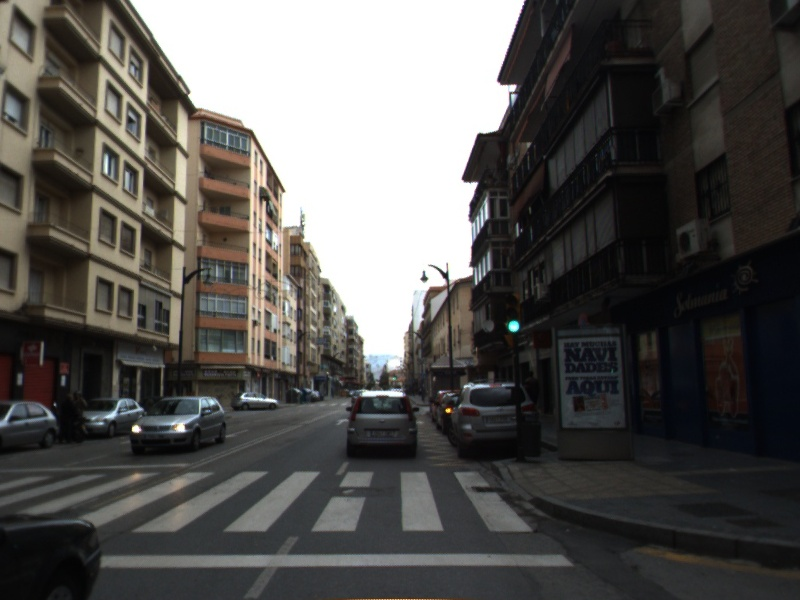STRAIGHT: (334, 417, 350, 427)
